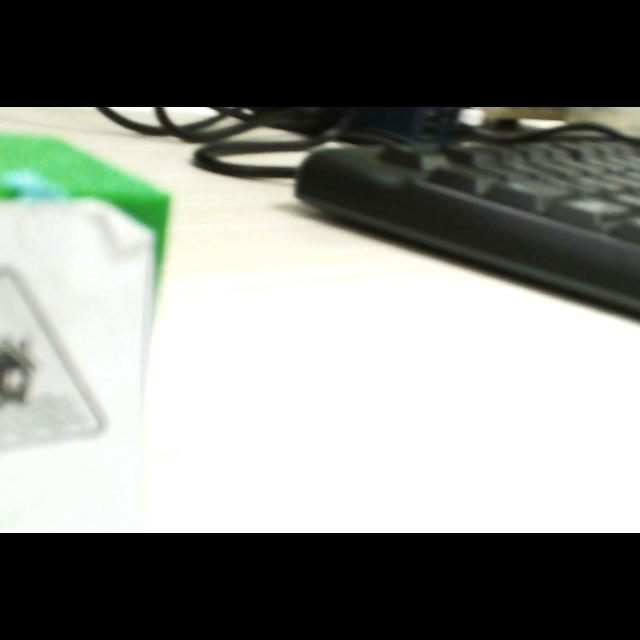Tsunami: (0, 266, 105, 455)
